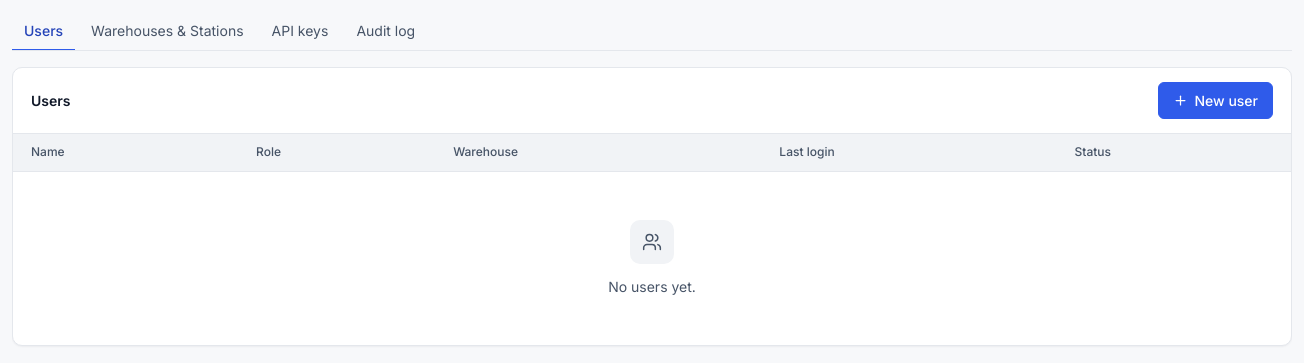
Test: AdminPage › switches tabs with the arrow keys
Click the tab "Users" at coordinates (44, 32), box [12, 12, 75, 51]
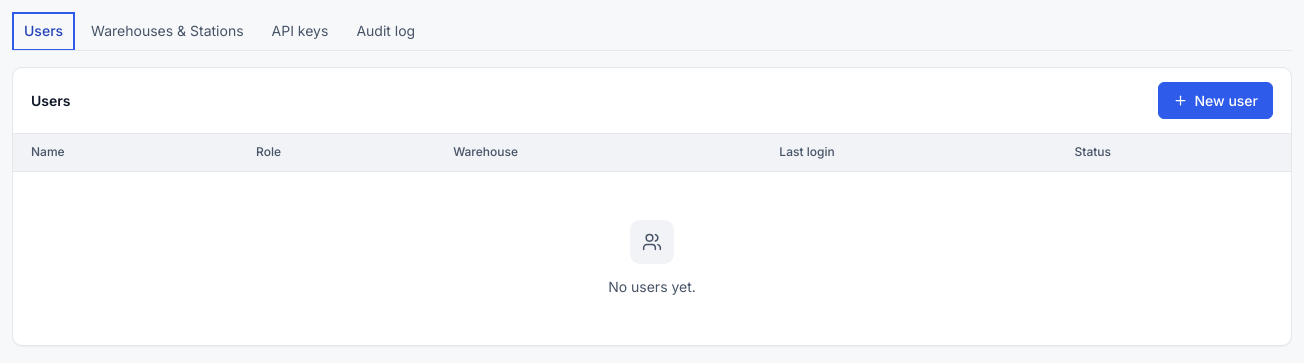
Press Arrowright
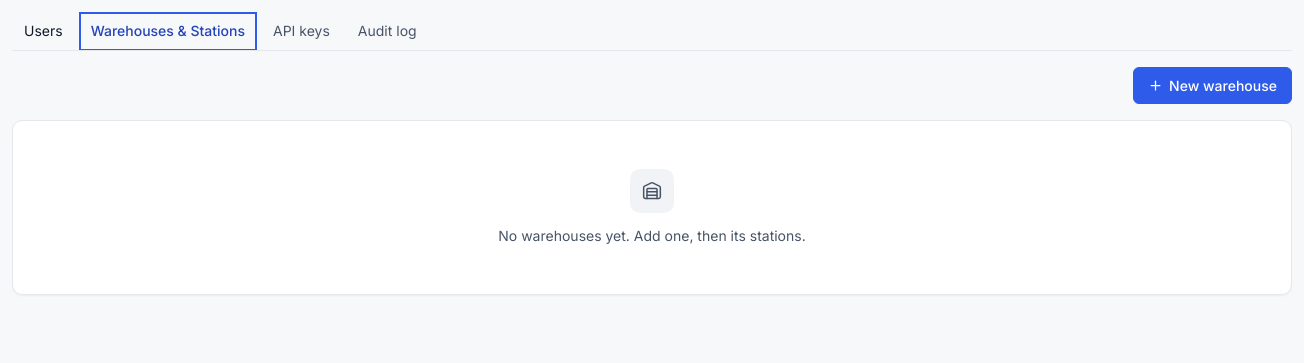
Result: the text "No warehouses yet. Add one, then its stations." is shown at [498, 225, 806, 246]
